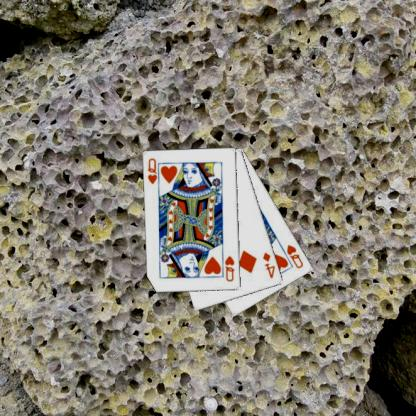4D: (260, 250, 277, 280)
QH: (284, 242, 305, 270), (145, 156, 161, 188), (223, 254, 236, 284)
